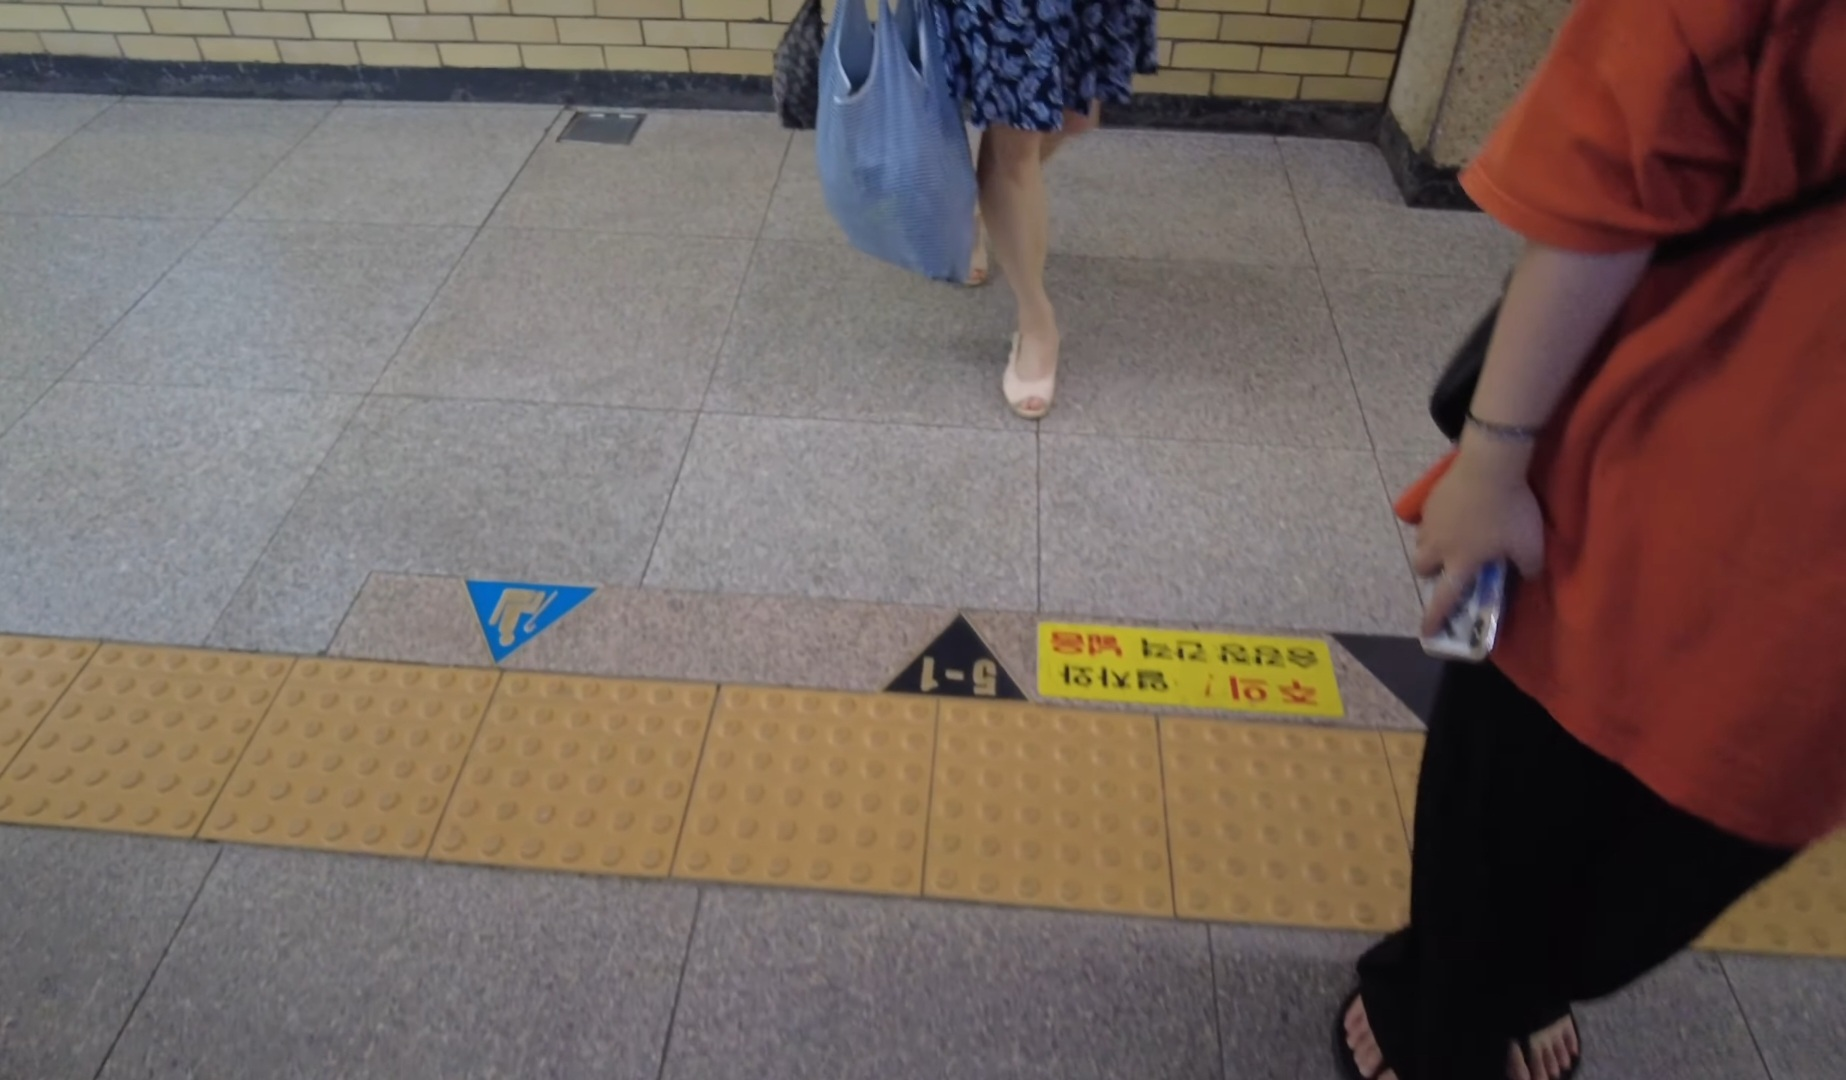warningBlock: (1172, 712, 1411, 924), (470, 672, 711, 865), (10, 636, 252, 827), (710, 694, 945, 888), (944, 698, 1165, 904), (257, 645, 468, 840)
